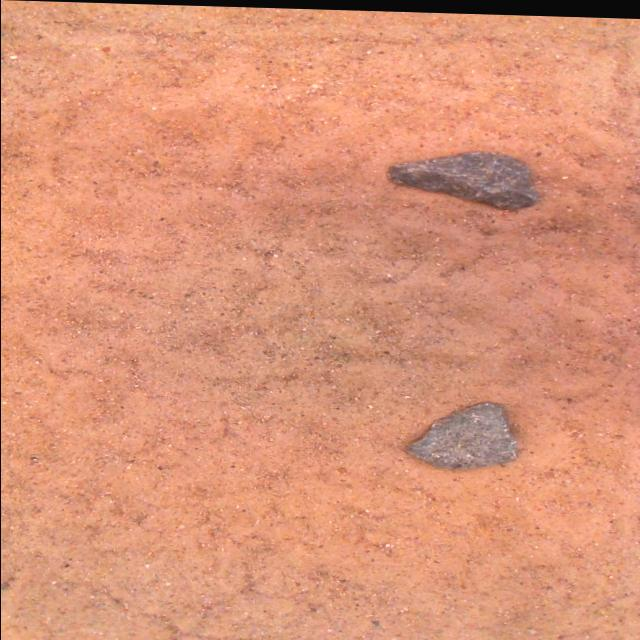rock: (387, 149, 537, 207), (406, 399, 515, 465)
